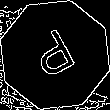P_SE: (27, 24, 83, 86)
